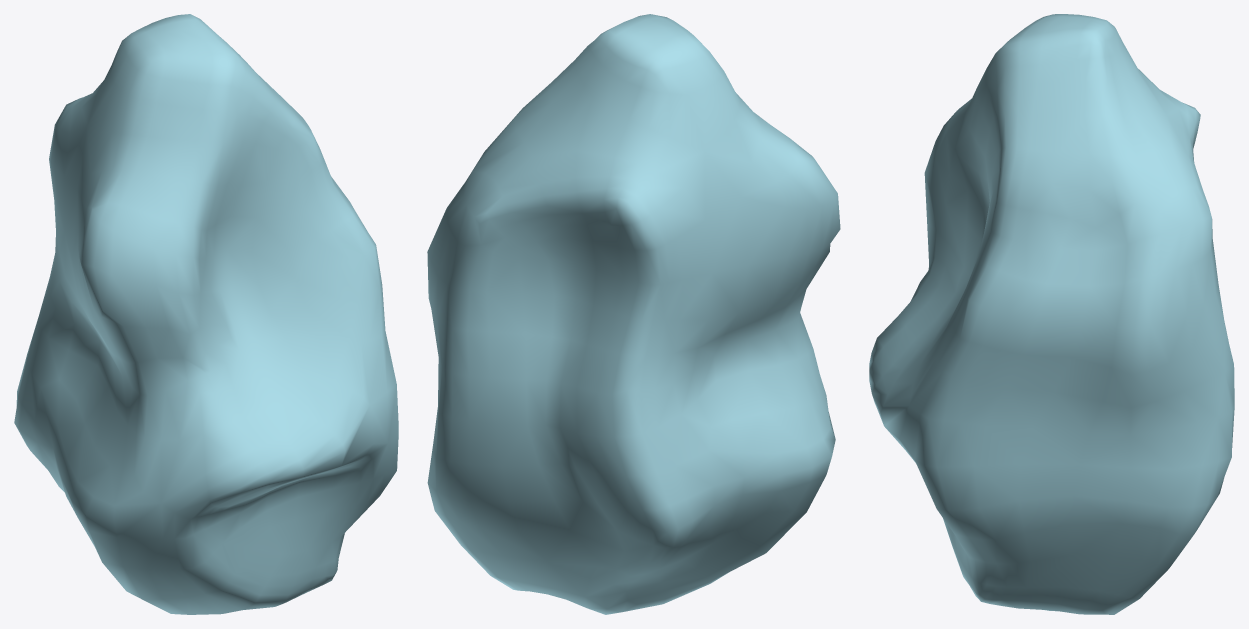
Rendered from SmallRock2.fbx.
3 renders of one model, left to right at view 1: azimuth 30°, elevation 25°; view 2: azimuth 150°, elevation 25°; view 3: azimuth 270°, elevation 25°, orthographic. The views are drawn at different scales.
Visible parts, largest first — view 1: Retopo_Cube.004; view 2: Retopo_Cube.004; view 3: Retopo_Cube.004.
Boxes of the visible parts, left/top/right/bottom form: Retopo_Cube.004: left=14, top=14, right=398, bottom=614; Retopo_Cube.004: left=427, top=14, right=840, bottom=614; Retopo_Cube.004: left=869, top=14, right=1234, bottom=614.
Size of the model in its own units: 78.28 by 134 by 80.04.
